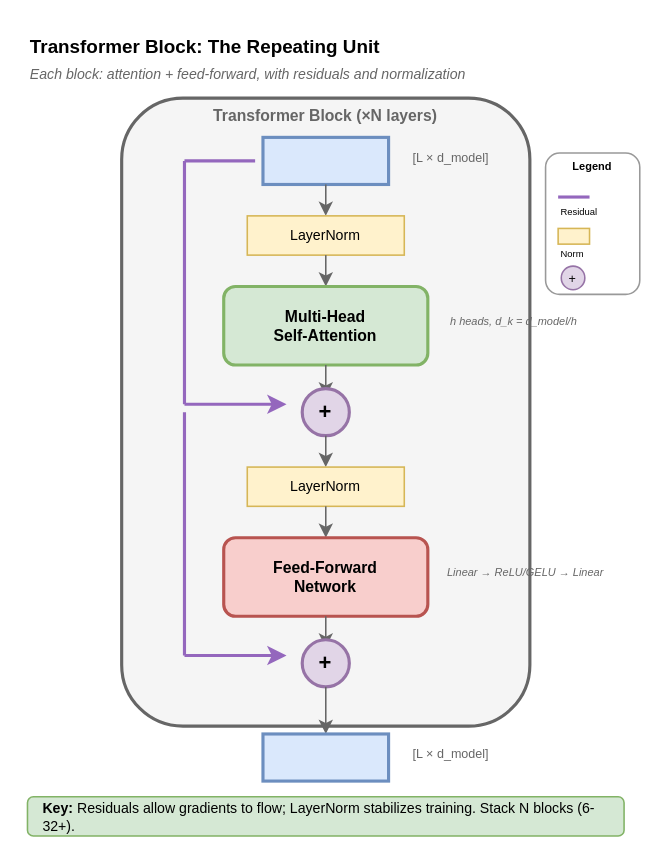
This 667x864 diagram has some shape labels left out. The shapes that lost their labels are listed below. From the top down, each one's centre as x and y in pixels, then its label:
At pixel 325 160: "Input X".
At pixel 325 757: "Output".
